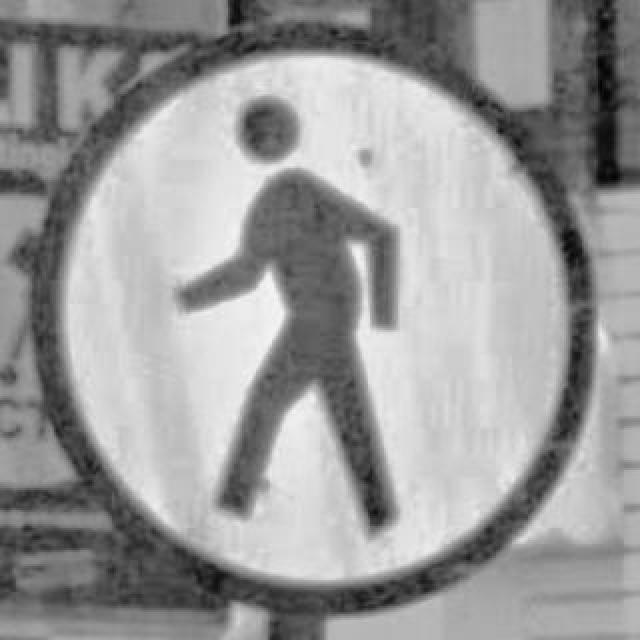pedestrian crossing: (26, 26, 596, 610)
